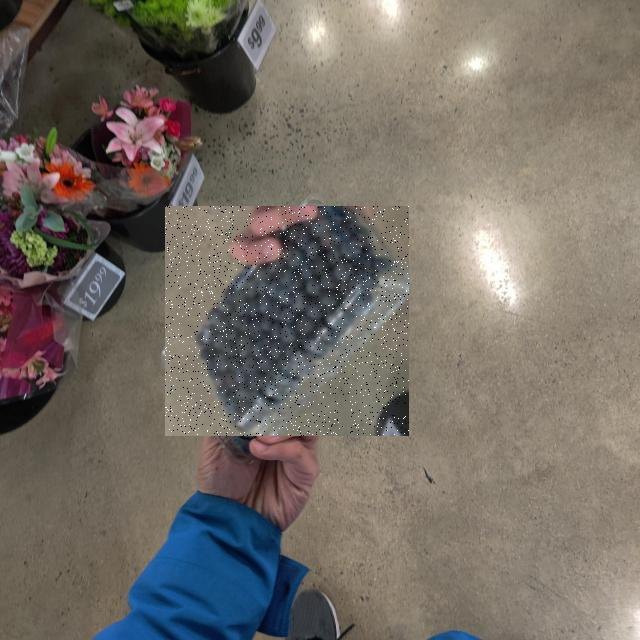Blue Berries: (165, 206, 409, 436)
